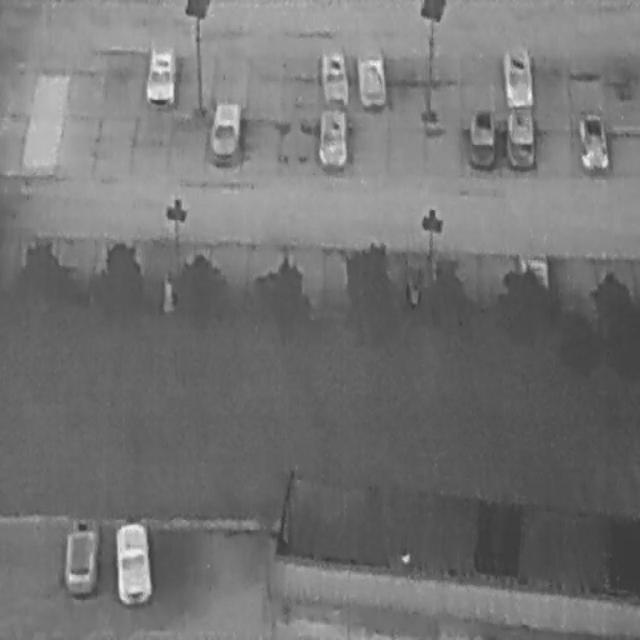Car: (110, 519, 153, 606), (60, 516, 99, 599), (206, 94, 244, 160), (500, 42, 535, 108), (352, 50, 388, 109), (144, 44, 176, 106), (505, 102, 534, 170), (577, 110, 608, 172), (316, 108, 348, 168), (466, 104, 496, 168), (318, 50, 350, 105)
